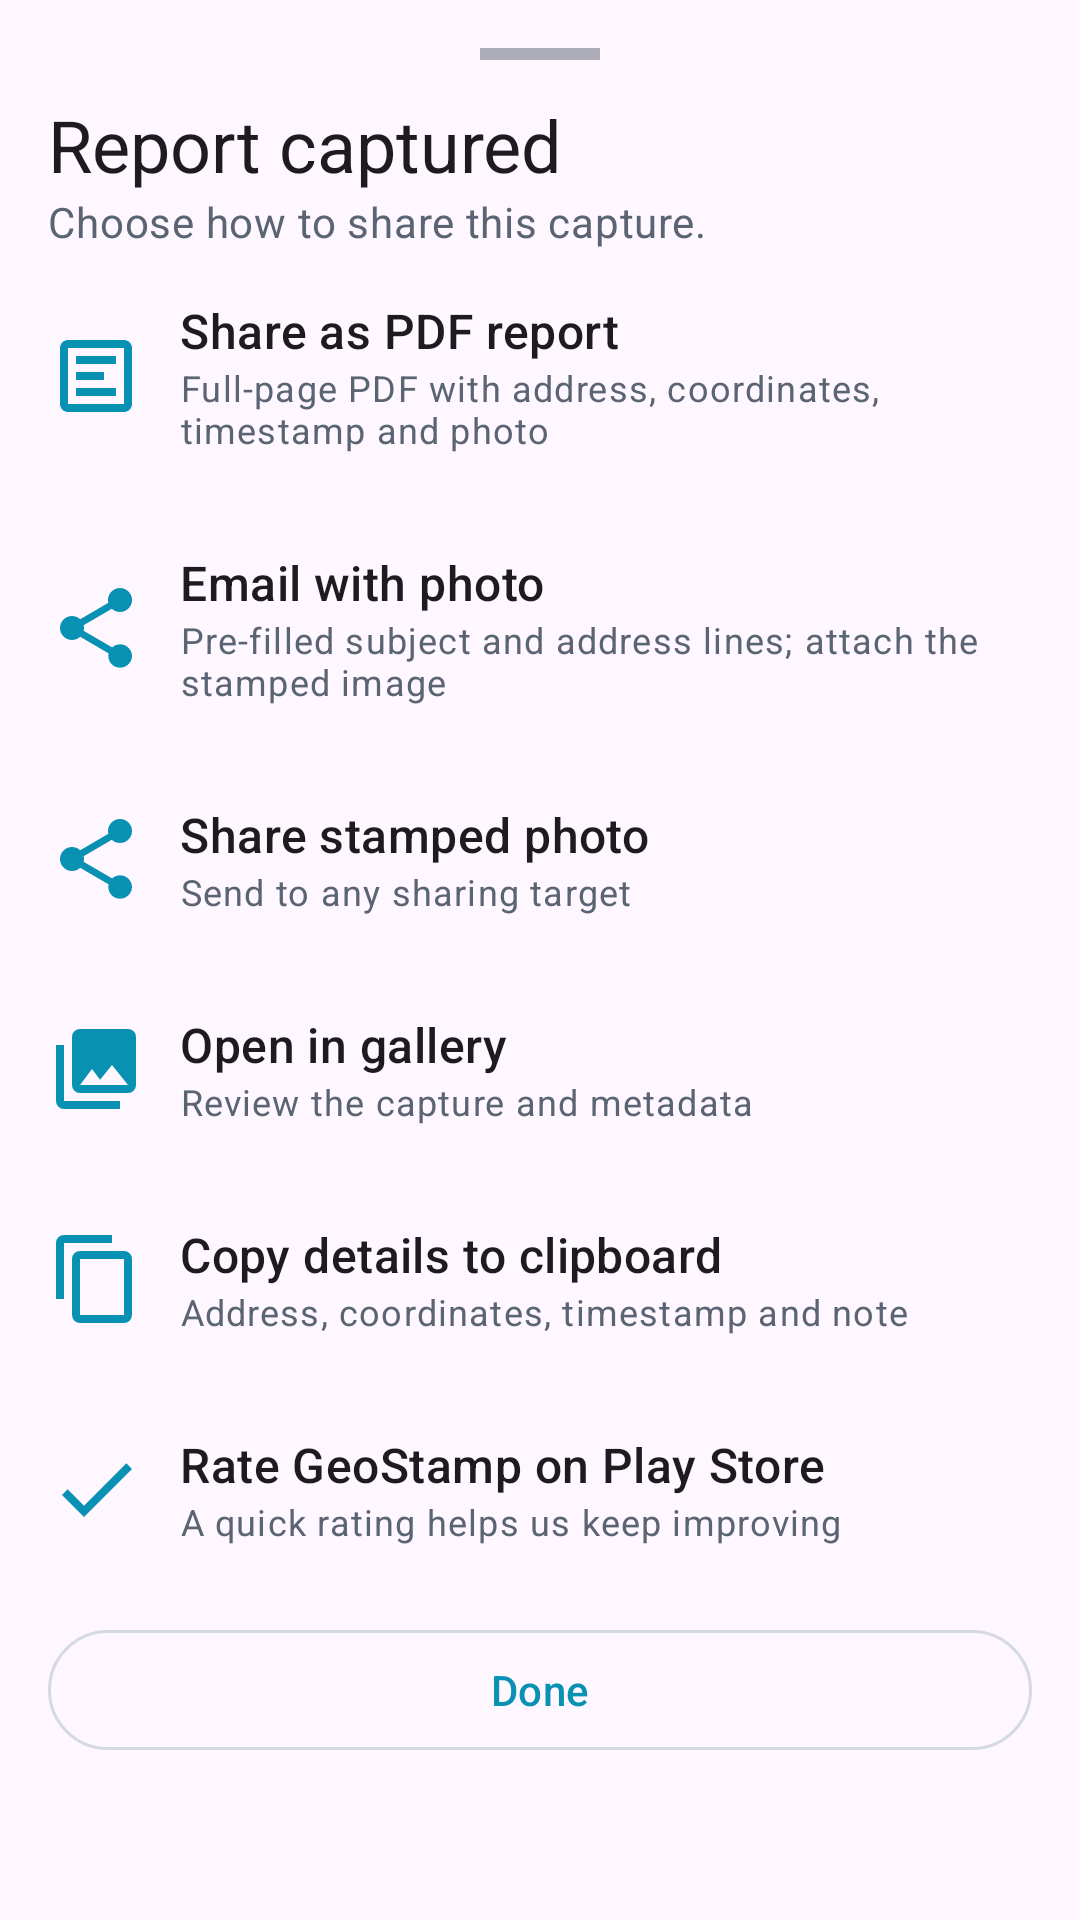

Where icons sit on this 1080 × 1920 app screen, as (x1,y1,x2,y2):
check: (62,1463,132,1517)
